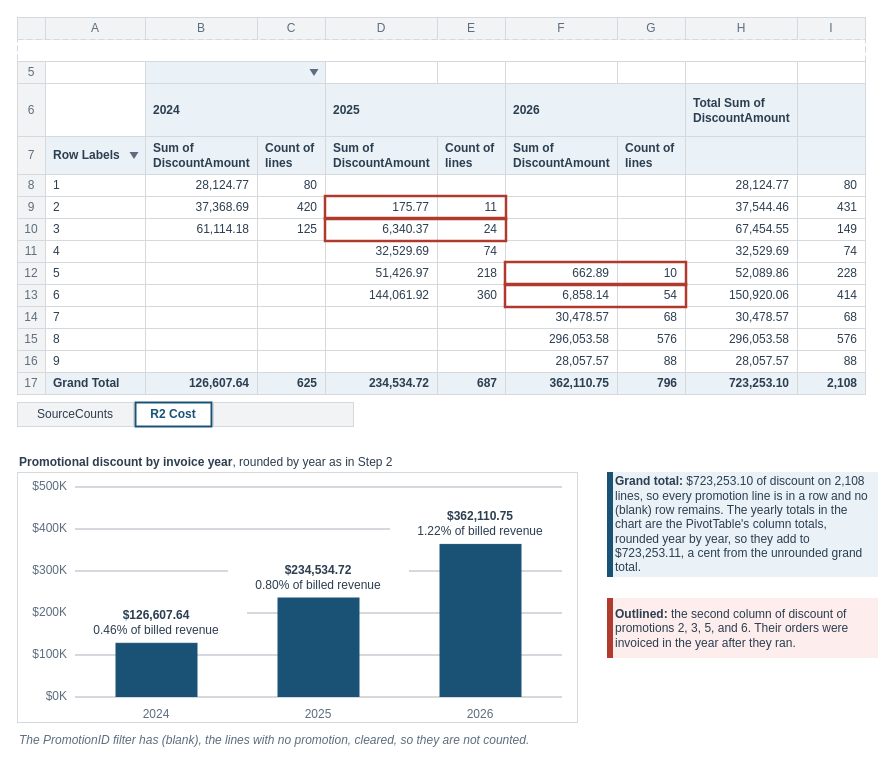
This 895x769 diagram has some shape labels left out. Here are the shapes that lost their labels. From the top down, the box of each, then its label:
(16, 38, 866, 62): Rows 1 to 4: the title and the PivotTable's report area
(144, 60, 326, 84): Column Labels
(796, 82, 866, 136): Total Count of lines
(212, 402, 354, 426): R2 Gross to Net
